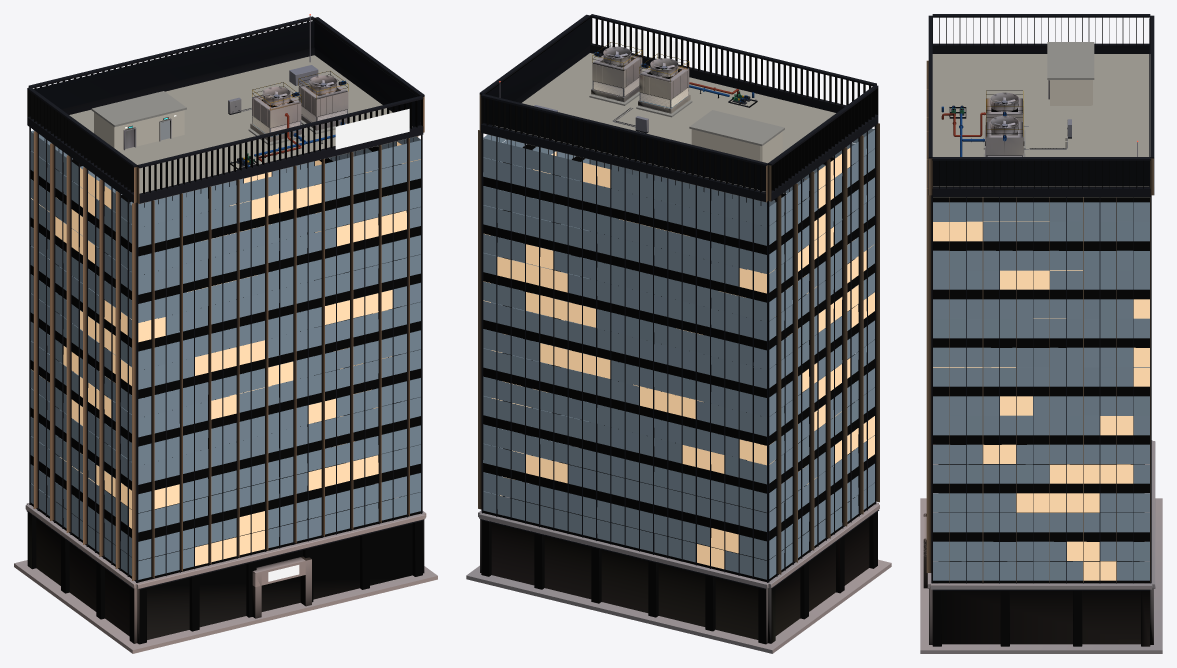
The model's file is roof.glb.
3 views of the same model, side by side, from view 1: azimuth 30°, elevation 25°; view 2: azimuth 150°, elevation 25°; view 3: azimuth 270°, elevation 25° (orthographic). The views are drawn at different scales.
Visible parts, largest first — view 1: tower_body.glass_tower, tower_body.stone, tower_body.fin, tower_body.spandrel, tower_body.darkmetal, tower_body.glass_lit, deck.roof_paver, crown.darkmetal, crown.spandrel, crown.fin, deck.concrete, ct2.frp (+4 smaller); view 2: tower_body.glass_tower, tower_body.stone, tower_body.spandrel, tower_body.darkmetal, tower_body.glass_lit, tower_body.fin, crown.fin, crown.darkmetal, deck.roof_paver, crown.spandrel, deck.concrete, ct2.frp (+5 smaller); view 3: tower_body.glass_tower, tower_body.stone, deck.roof_paver, tower_body.spandrel, tower_body.glass_lit, crown.darkmetal, crown.spandrel, tower_body.fin, tower_body.darkmetal, crown.fin, deck.concrete, ct2.frp (+3 smaller).
Part boxes in pixels (<box>): tower_body.glass_tower: <box>30,130,420,579</box>; tower_body.stone: <box>14,447,437,653</box>; tower_body.fin: <box>33,131,418,580</box>; tower_body.spandrel: <box>30,146,420,582</box>; tower_body.darkmetal: <box>26,127,423,589</box>; tower_body.glass_lit: <box>31,141,420,565</box>; deck.roof_paver: <box>69,55,420,204</box>; crown.darkmetal: <box>27,16,424,203</box>; crown.spandrel: <box>34,20,420,124</box>; crown.fin: <box>27,19,424,203</box>; deck.concrete: <box>91,91,347,145</box>; ct2.frp: <box>298,75,348,121</box>; tower_body.glass_tower: <box>483,128,874,579</box>; tower_body.stone: <box>466,447,891,653</box>; tower_body.spandrel: <box>483,144,874,581</box>; tower_body.darkmetal: <box>480,125,879,589</box>; tower_body.glass_lit: <box>483,148,874,569</box>; tower_body.fin: <box>478,123,879,574</box>; crown.fin: <box>479,17,878,201</box>; crown.darkmetal: <box>479,14,878,201</box>; deck.roof_paver: <box>483,53,835,202</box>; crown.spandrel: <box>483,18,765,191</box>; deck.concrete: <box>589,92,784,146</box>; ct2.frp: <box>592,46,642,96</box>; tower_body.glass_tower: <box>933,202,1149,580</box>; tower_body.stone: <box>920,440,1162,653</box>; deck.roof_paver: <box>932,54,1150,197</box>; tower_body.spandrel: <box>933,197,1149,583</box>; tower_body.glass_lit: <box>933,221,1149,580</box>; crown.darkmetal: <box>928,14,1154,196</box>; crown.spandrel: <box>933,18,1149,186</box>; tower_body.fin: <box>926,60,1150,582</box>; tower_body.darkmetal: <box>928,195,1154,590</box>; crown.fin: <box>929,17,1153,195</box>; deck.concrete: <box>983,42,1094,156</box>; ct2.frp: <box>985,116,1023,156</box>.
Size of the model in its own units: 43 by 66.34 by 29.
